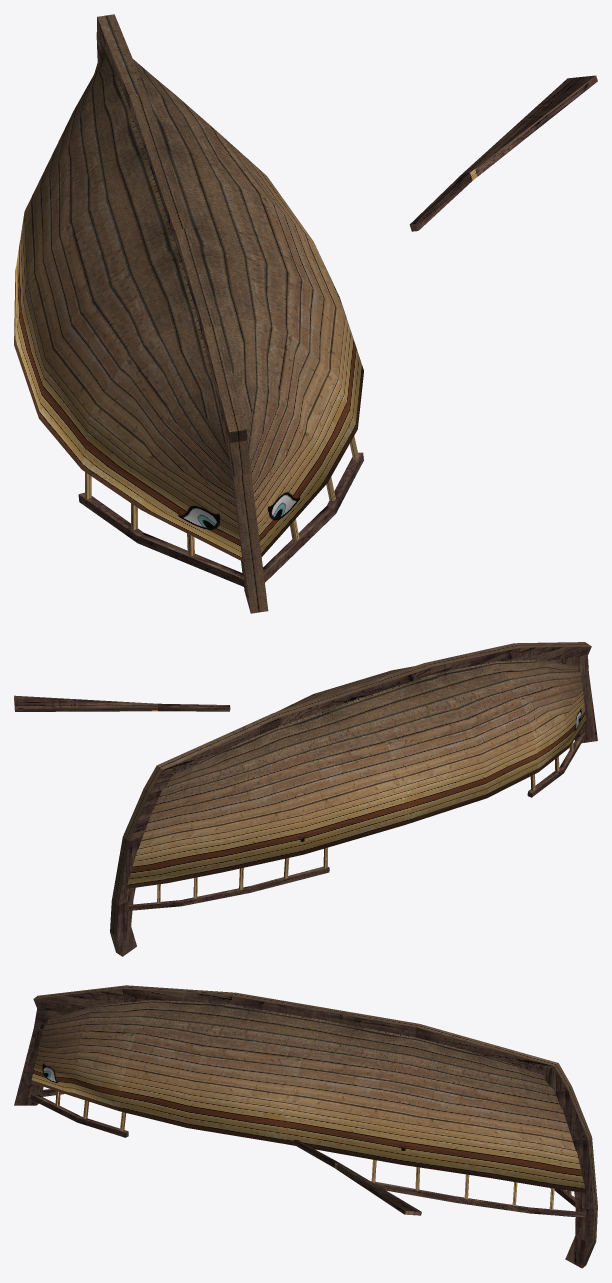
The model's file is shipwreck_hull.dae.
3 renders of one model, top to bottom at view 1: azimuth 30°, elevation 25°; view 2: azimuth 150°, elevation 25°; view 3: azimuth 270°, elevation 25°, orthographic. The views are drawn at different scales.
Visible parts, largest first — view 1: Cube01; view 2: Cube01; view 3: Cube01.
Boxes of the visible parts, x1,y1,x2,y2 form: Cube01: (14, 14, 597, 613); Cube01: (14, 642, 597, 956); Cube01: (14, 985, 597, 1268).
Bounding box in the file's own units: 19.3 × 8.82 × 22.84.
